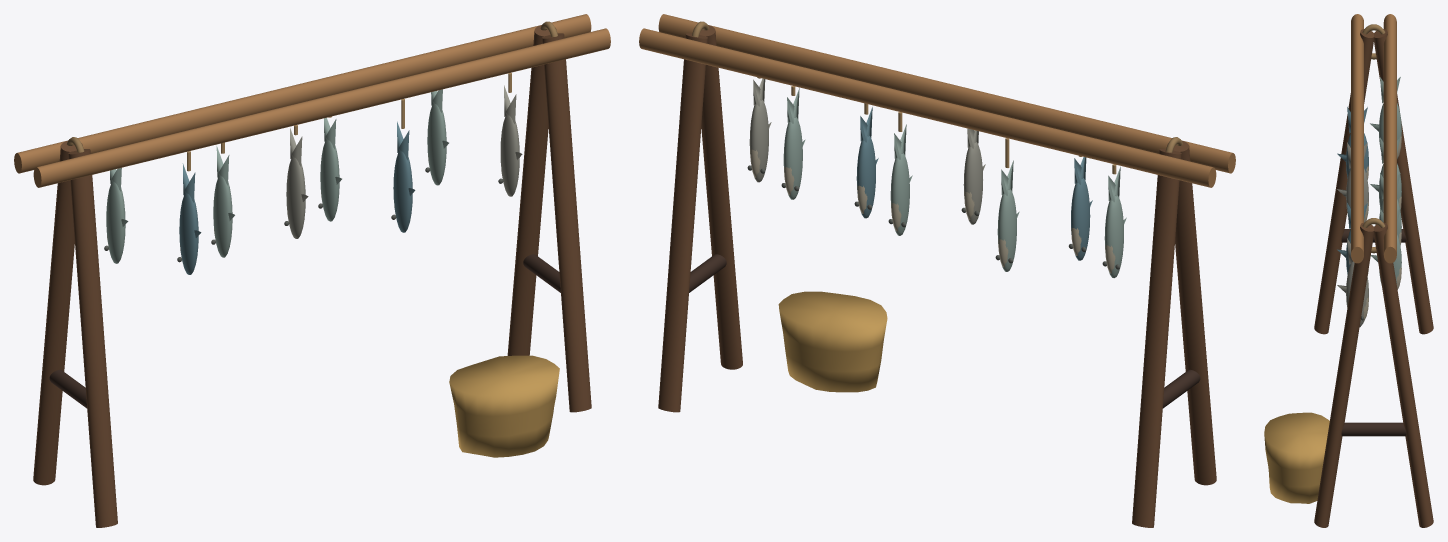
File: detail_fish_rack.glb
The picture shows the model from 3 angles, left to right: view 1: azimuth 30°, elevation 25°; view 2: azimuth 150°, elevation 25°; view 3: azimuth 270°, elevation 25°; orthographic projection. The views are drawn at different scales.
Parts seen in each view (by area): view 1: wood, stone, cloth; view 2: wood, stone, cloth; view 3: wood, stone, cloth.
Part boxes in pixels (x1,y1,x2,y2): wood: [14, 14, 610, 527]; stone: [104, 85, 522, 263]; cloth: [179, 73, 511, 274]; wood: [639, 14, 1235, 527]; stone: [747, 78, 1126, 278]; cloth: [757, 77, 1116, 260]; wood: [1264, 14, 1433, 527]; stone: [1337, 77, 1401, 326]; cloth: [1337, 107, 1368, 274].
Bounding box in the file's own units: 2.6 × 1.6 × 0.8.
